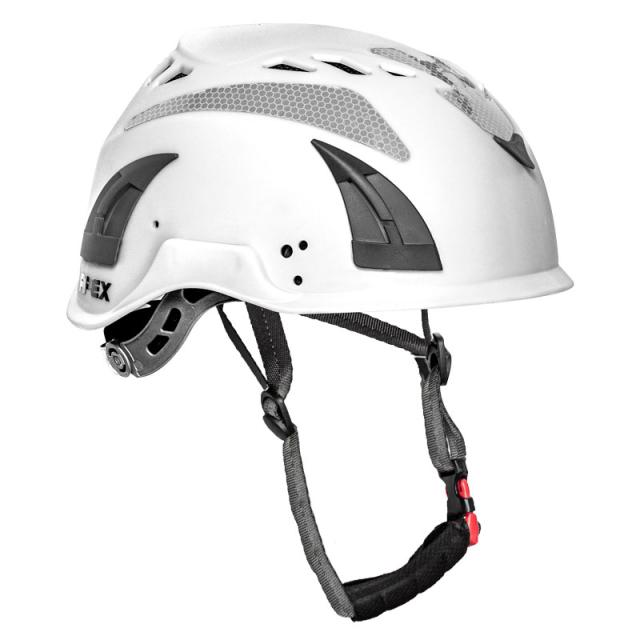Helmet: (60, 6, 586, 432)
